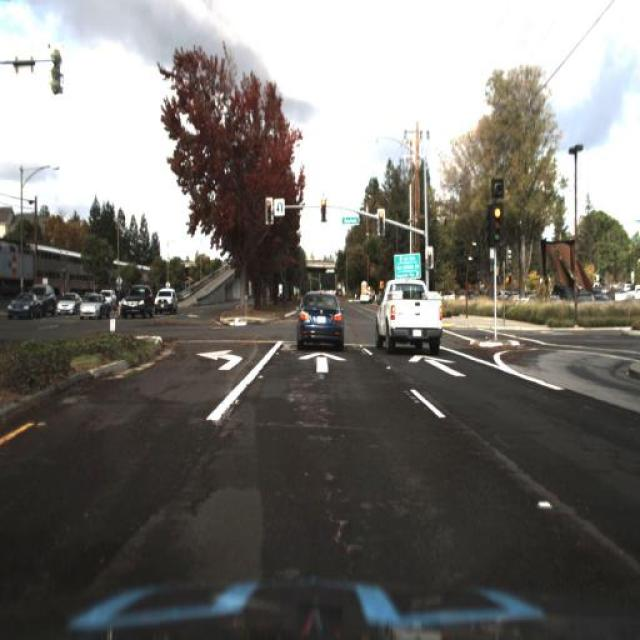car: (371, 275, 445, 345), (297, 294, 345, 350), (120, 282, 155, 322), (8, 285, 40, 321), (122, 280, 152, 318), (8, 288, 40, 322), (75, 288, 106, 320), (32, 284, 58, 318), (80, 290, 110, 316), (154, 287, 180, 317), (39, 281, 57, 319), (54, 290, 78, 318), (151, 286, 175, 314), (57, 294, 82, 312), (106, 286, 118, 316)
trafficLight-RedLeft: (490, 202, 500, 244), (425, 246, 439, 274), (260, 193, 272, 224), (492, 203, 502, 238), (314, 193, 330, 214), (377, 204, 389, 228), (374, 207, 384, 233), (318, 197, 328, 222)
trafficLight-Yellow: (263, 198, 275, 226)
